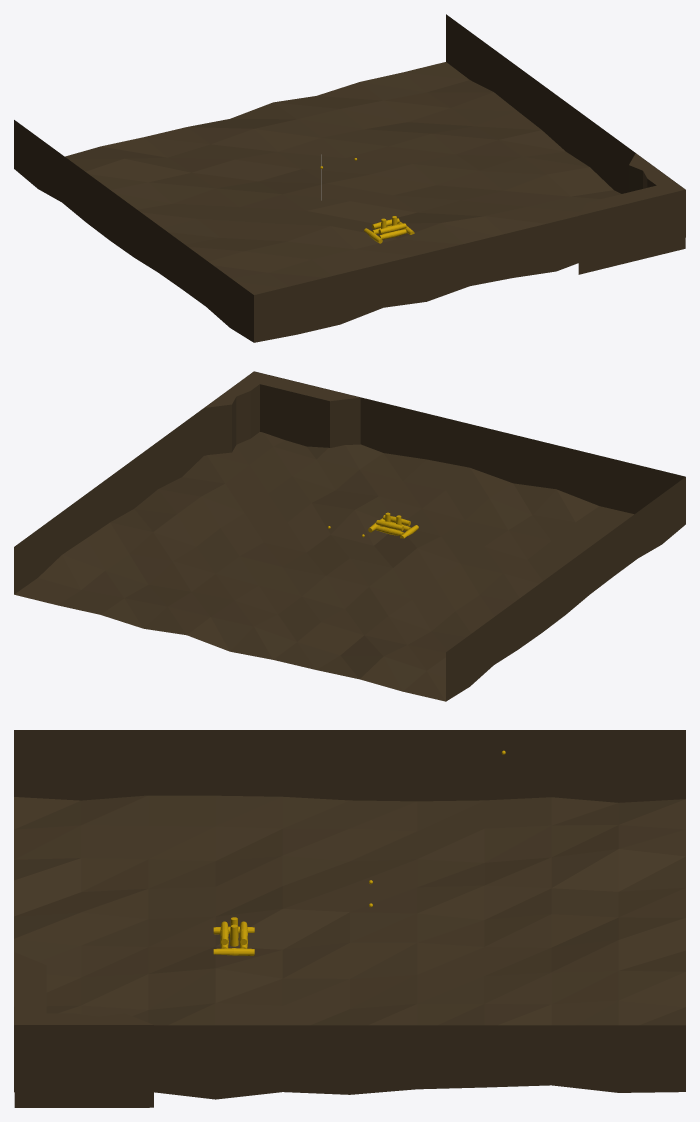
The model's file is saucemap.obj.
3 views of the same model, one above another, from view 1: azimuth 30°, elevation 25°; view 2: azimuth 150°, elevation 25°; view 3: azimuth 270°, elevation 25° (orthographic). The views are drawn at different scales.
Parts seen in each view (by area): view 1: Walls_Cube.001, SonarWall_Plane; view 2: Walls_Cube.001, SonarWall_Plane; view 3: Walls_Cube.001, SonarWall_Plane.
Boxes of the visible parts, x1,y1,x2,y2 form: Walls_Cube.001: [14, 14, 685, 342]; SonarWall_Plane: [578, 153, 685, 274]; Walls_Cube.001: [14, 371, 685, 701]; SonarWall_Plane: [204, 371, 360, 455]; Walls_Cube.001: [14, 730, 685, 1099]; SonarWall_Plane: [14, 952, 153, 1107].
Bounding box in the file's own units: 50.77 × 6.64 × 48.85.
